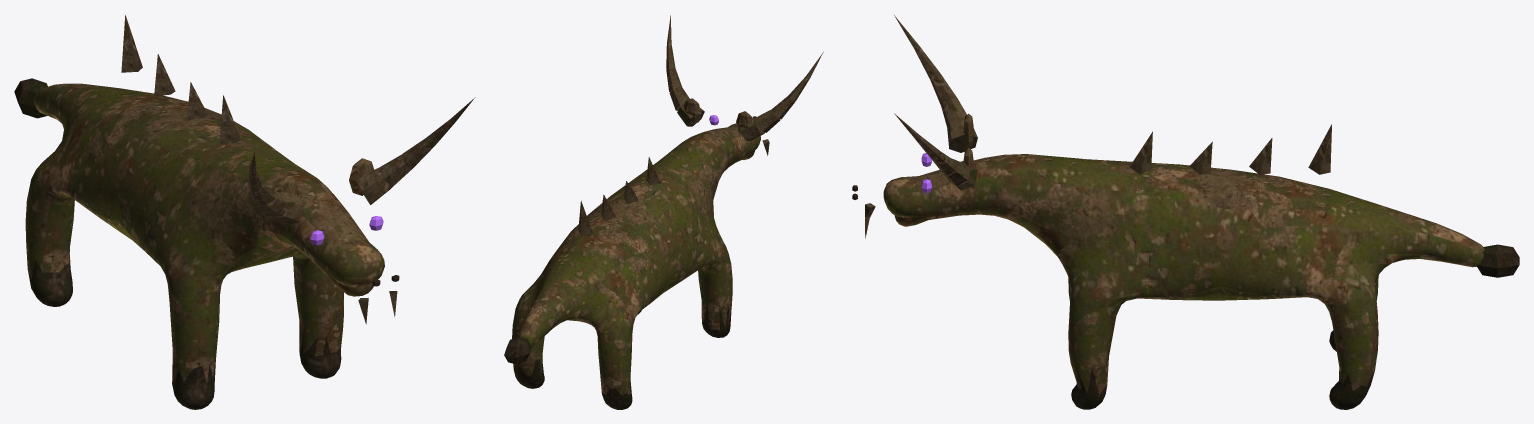
The model's file is mon_quad_04.glb.
3 renders of one model, left to right at view 1: azimuth 30°, elevation 25°; view 2: azimuth 150°, elevation 25°; view 3: azimuth 270°, elevation 25°, orthographic. The views are drawn at different scales.
Visible parts, largest first — view 1: mon_quad_04; view 2: mon_quad_04; view 3: mon_quad_04.
Part boxes in pixels (box(x1,y1,x2,y2)): mon_quad_04: box(14, 15, 475, 409); mon_quad_04: box(504, 15, 823, 409); mon_quad_04: box(852, 15, 1519, 409).
Size of the model in its own units: 0.5526 by 0.8276 by 1.58.
5 materials, 5 textured.
